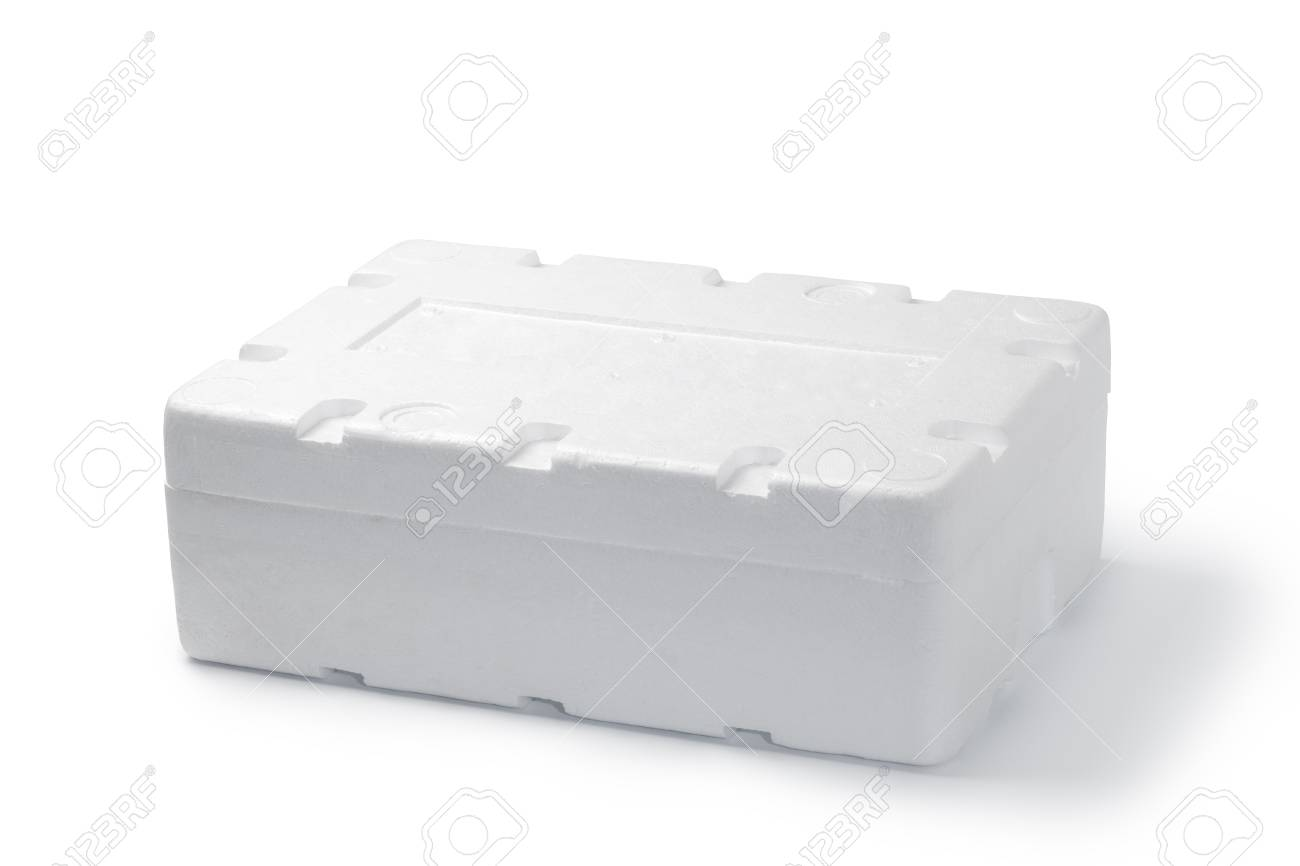Foam Box: (155, 232, 1119, 771)
